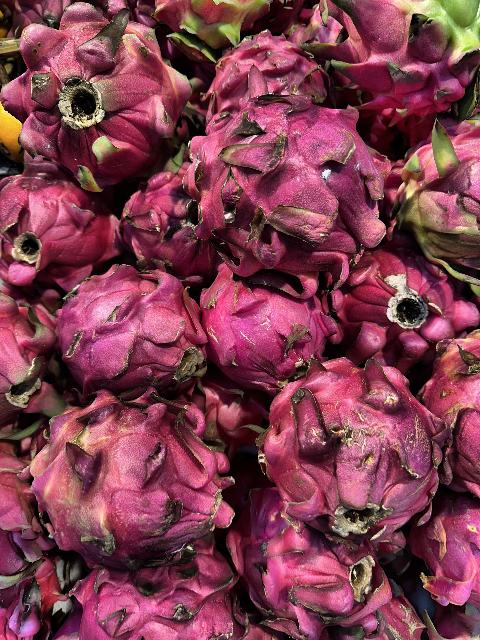buah-naga-belum-matang: (5, 14, 190, 182), (32, 408, 226, 562), (390, 138, 480, 280), (430, 328, 480, 488)
buah-naga-matang: (191, 86, 383, 286), (257, 371, 446, 531), (225, 478, 392, 632), (47, 275, 203, 393), (336, 239, 478, 365), (0, 168, 128, 296), (71, 546, 243, 640), (196, 263, 322, 373), (116, 173, 214, 271)
